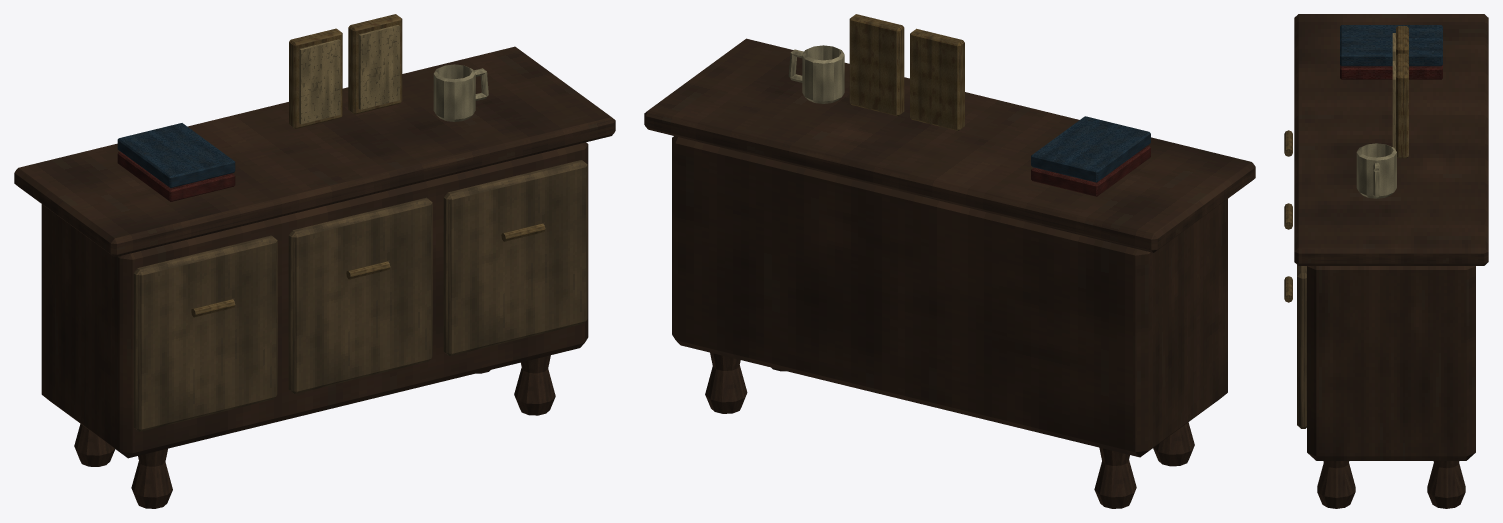
File: level_lived_sideboard_worn.glb
3 views of the same model, side by side, from view 1: azimuth 30°, elevation 25°; view 2: azimuth 150°, elevation 25°; view 3: azimuth 270°, elevation 25° (orthographic). The views are drawn at different scales.
Parts seen in each view (by area): view 1: level_lived_sideboard_worn; view 2: level_lived_sideboard_worn; view 3: level_lived_sideboard_worn.
Part boxes in pixels (bbox=[...]): level_lived_sideboard_worn: bbox=[14, 14, 615, 508]; level_lived_sideboard_worn: bbox=[644, 14, 1255, 508]; level_lived_sideboard_worn: bbox=[1284, 14, 1488, 508].
Size of the model in its own units: 1.53 by 1.14 by 0.557.
7 materials, 7 textured.
